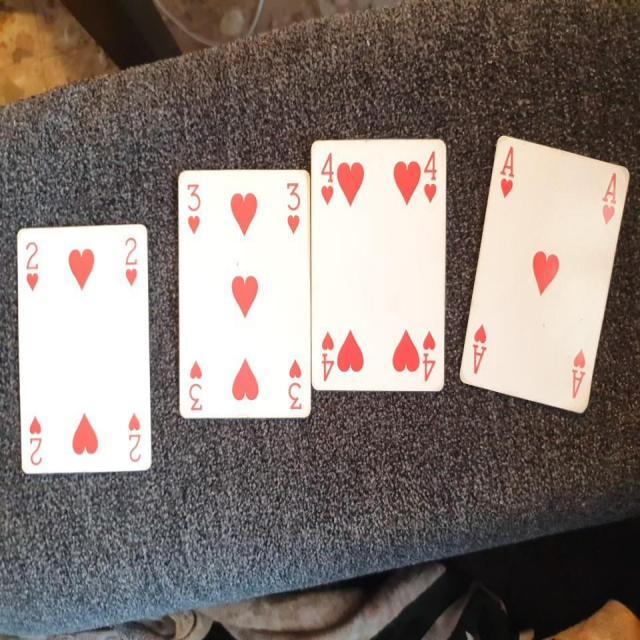2 Hearts: (6, 212, 168, 488)
3 Hearts: (172, 167, 312, 432)
4 Hearts: (309, 130, 450, 404)
A Hearts: (454, 128, 631, 423)
